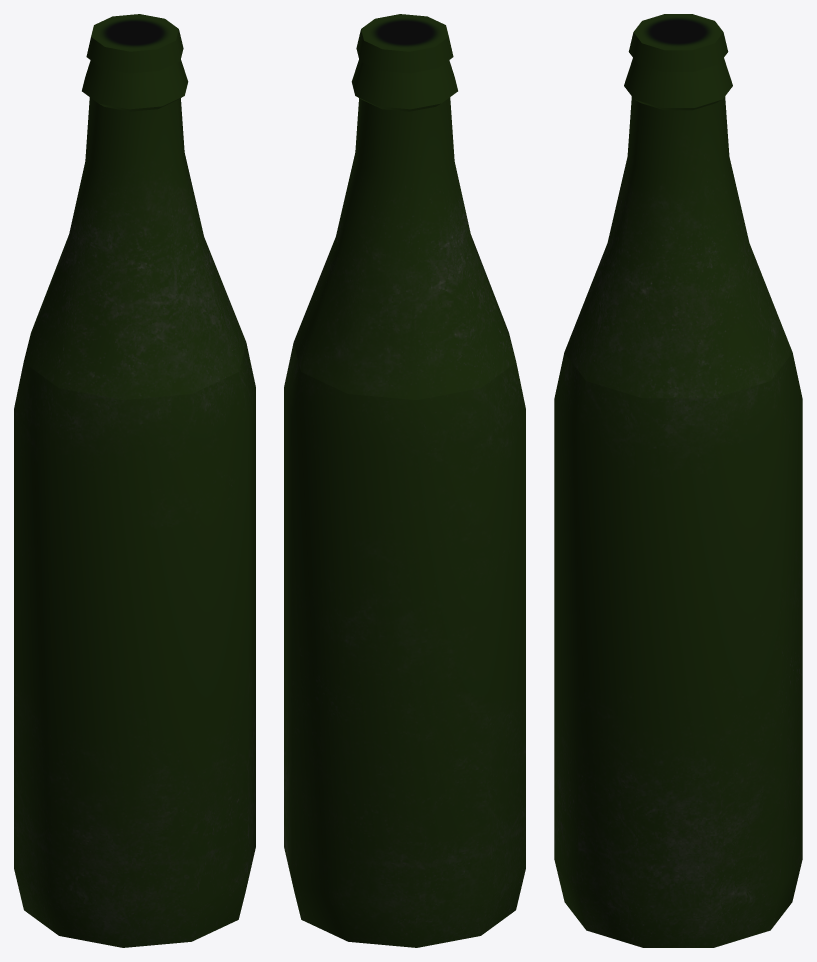
The model's file is bottle1.obj.
3 renders of one model, left to right at view 1: azimuth 30°, elevation 25°; view 2: azimuth 150°, elevation 25°; view 3: azimuth 270°, elevation 25°, orthographic.
Visible parts, largest first — view 1: Beer_Bottle2_Material_0; view 2: Beer_Bottle2_Material_0; view 3: Beer_Bottle2_Material_0.
Part boxes in pixels (bbox=[...]): Beer_Bottle2_Material_0: bbox=[14, 14, 255, 947]; Beer_Bottle2_Material_0: bbox=[284, 14, 525, 947]; Beer_Bottle2_Material_0: bbox=[554, 14, 802, 947].
Size of the model in its own units: 0.8367 by 3.42 by 0.8798.
Materials: 1 (1 with a texture image).
